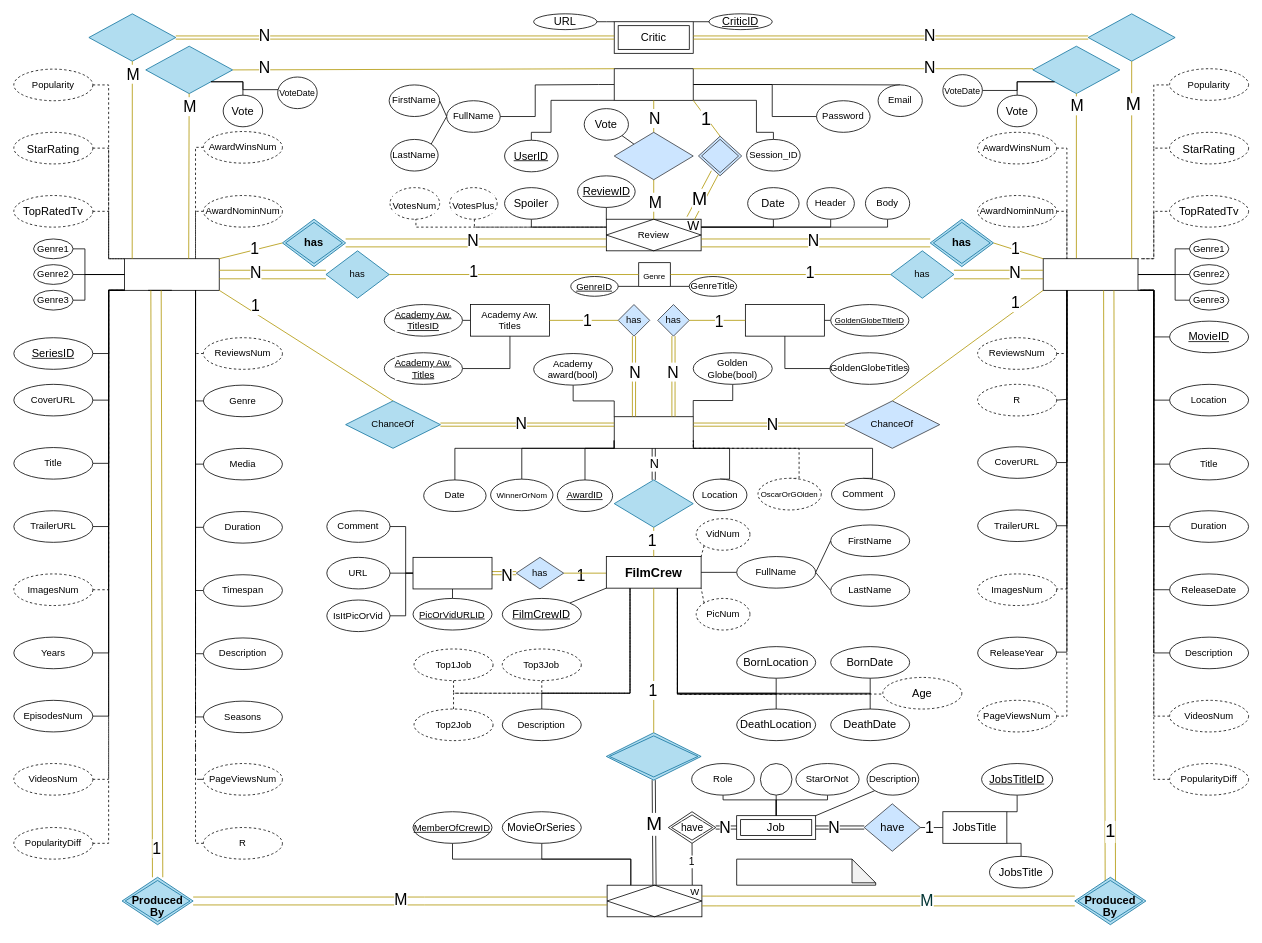
Image size: 1262x943. Some labels were removed from this diagram. The shapes that lost their labels are listed below. From the top down, each one's box as (x1, y1, x2, y2) in pixels, then its label:
(88, 13, 176, 61): ReviewsS
(1087, 13, 1175, 61): ReviewsM
(145, 45, 233, 94): VotesForS
(613, 68, 693, 100): User
(1032, 45, 1120, 94): VotesForM
(613, 132, 693, 180): UsersVote
(698, 135, 742, 176): make
(124, 258, 219, 290): Series
(1042, 258, 1138, 290): Movie
(745, 304, 824, 336): GoldenGlobe Titles
(613, 416, 693, 448): Award
(613, 479, 693, 527): ParticipateIn
(412, 557, 492, 589): PicOrVidURL
(606, 732, 701, 780): ParticipatesAs
(760, 763, 792, 795): JobID
(736, 858, 876, 885): RoleOnlyAvailableWhenActor
(606, 884, 702, 917): MemberOfCrew
